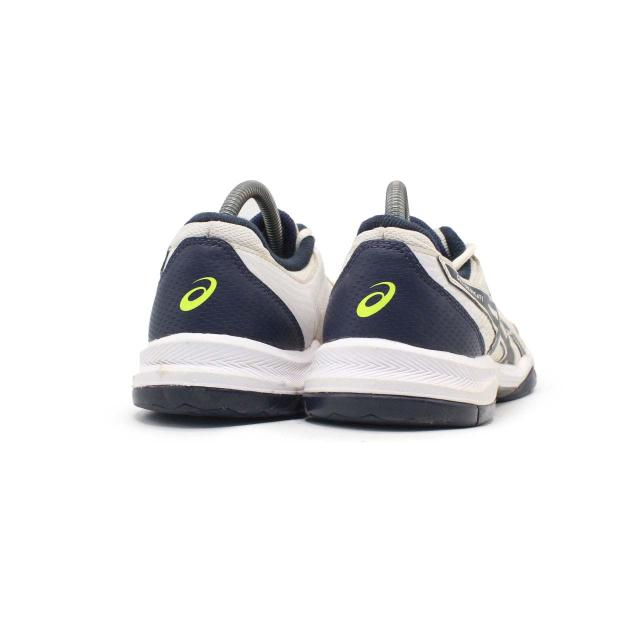heel: (319, 222, 480, 351), (148, 216, 306, 347)
midsole: (302, 339, 536, 430), (133, 333, 317, 419)
